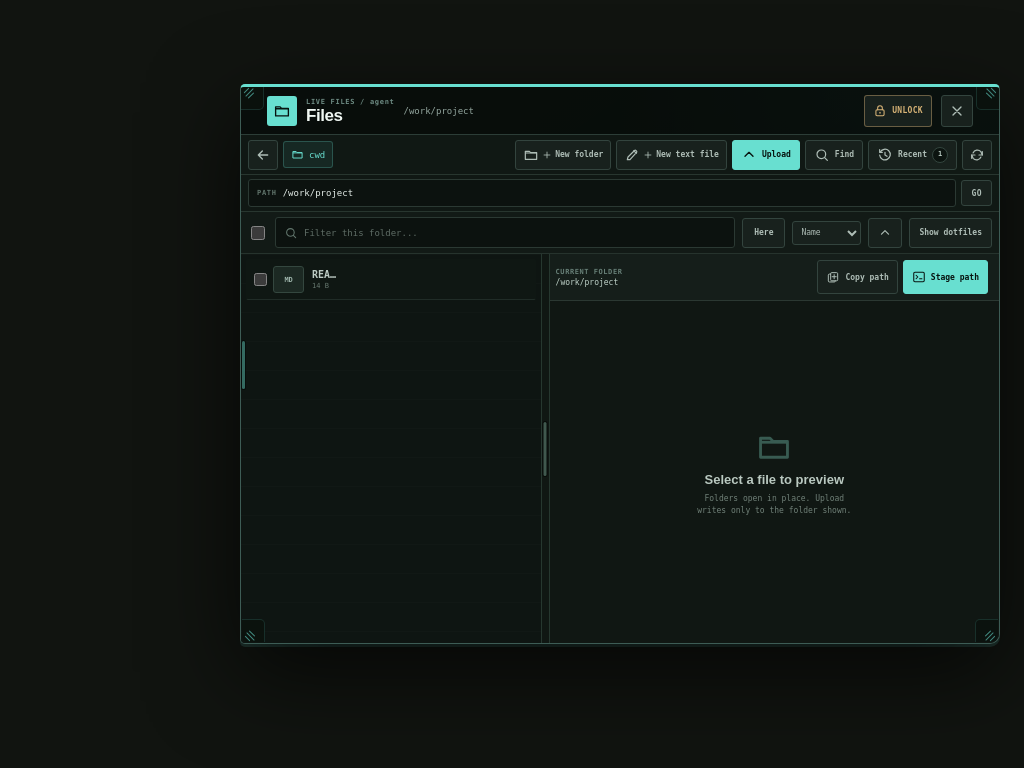
Test: SessionFilesPanel › restores the remembered rendered Markdown text size
Click the button with aria-label "File README.md" at [306, 280], box [273, 266, 340, 293]
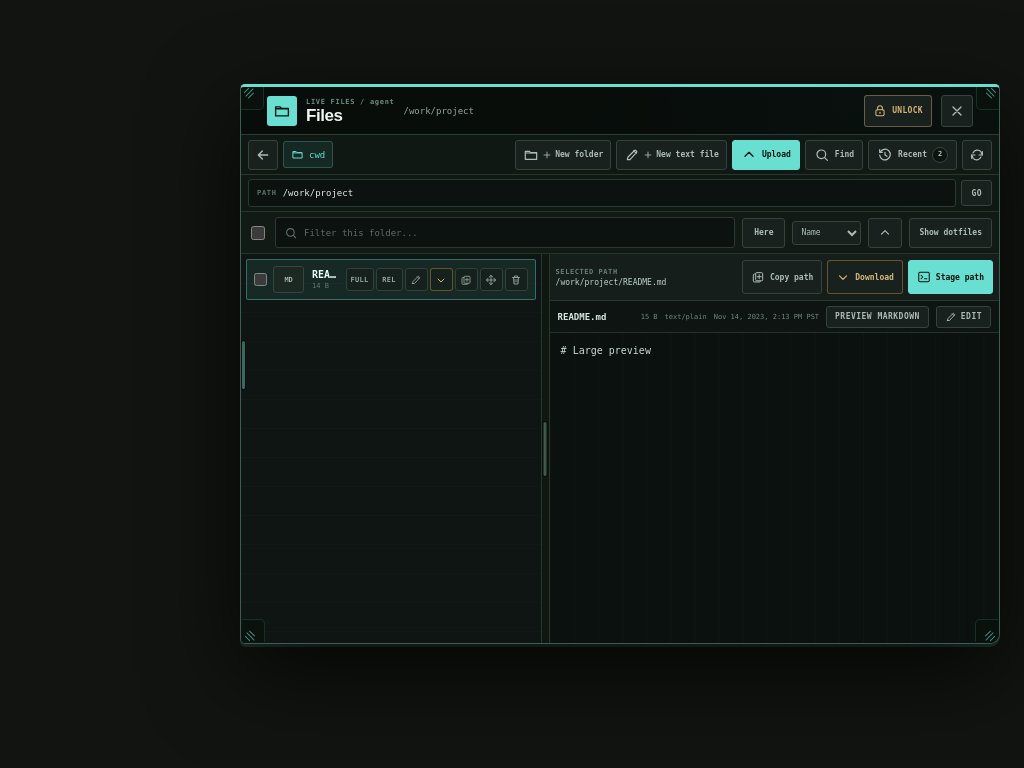
Click the button with aria-label "Preview README.md as rendered Markdown" at [878, 316], box [826, 306, 929, 328]
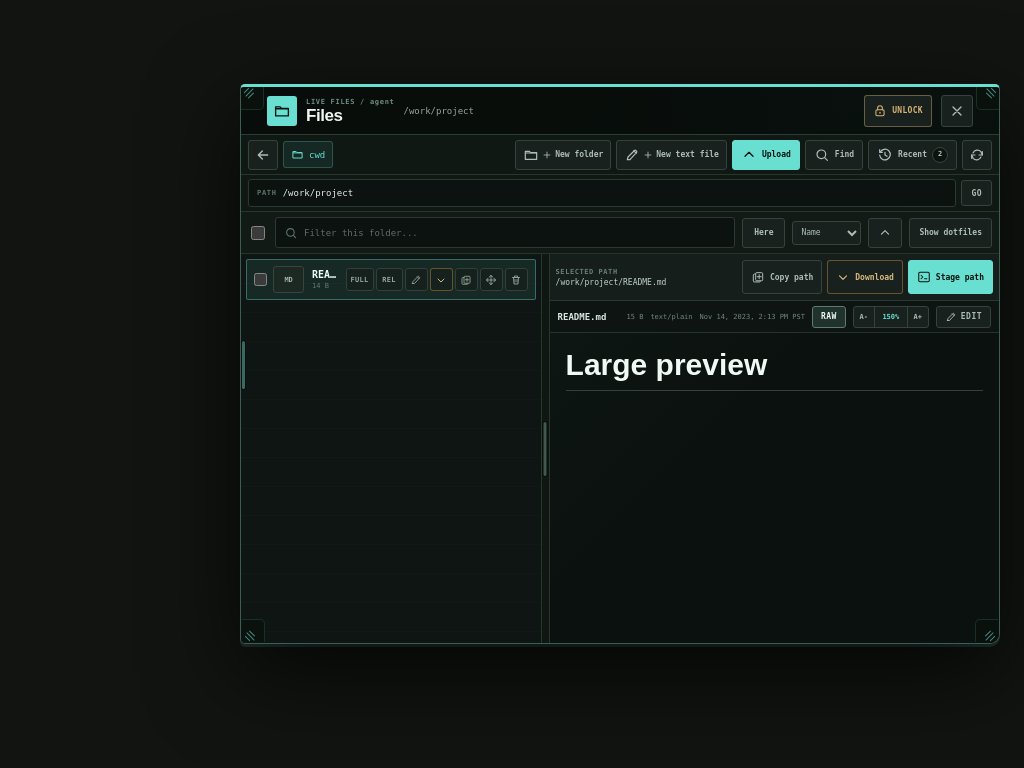
Now the button named "Reset rendered Markdown text size to default" reads "150%", box [874, 306, 908, 328]
